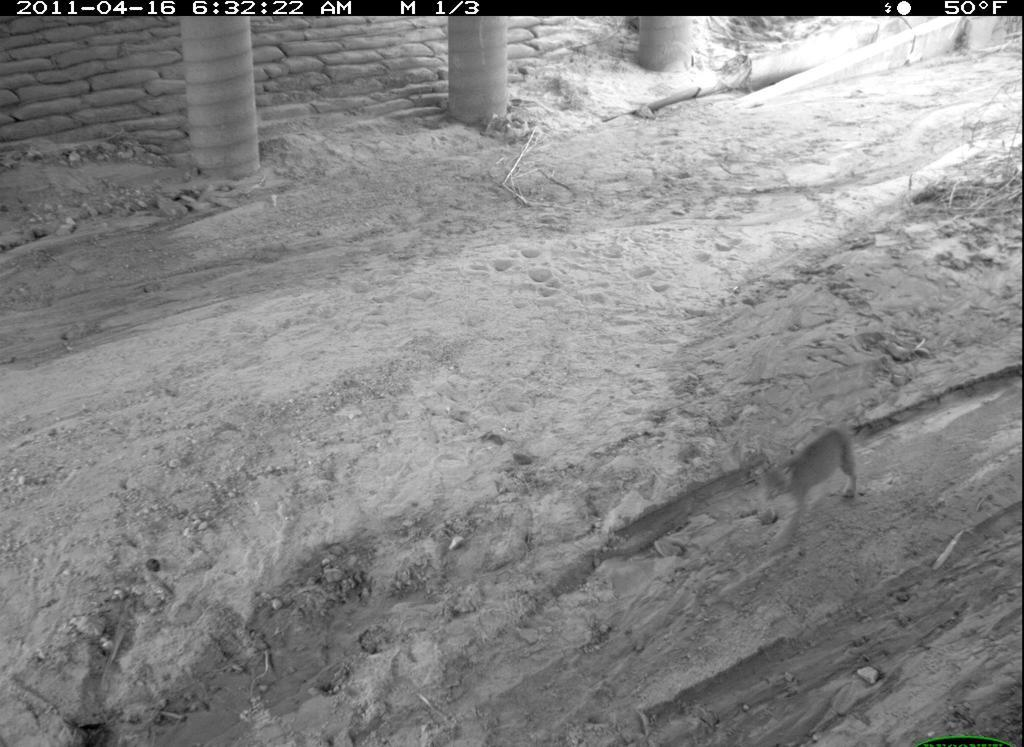bobcat: (753, 427, 867, 560)
